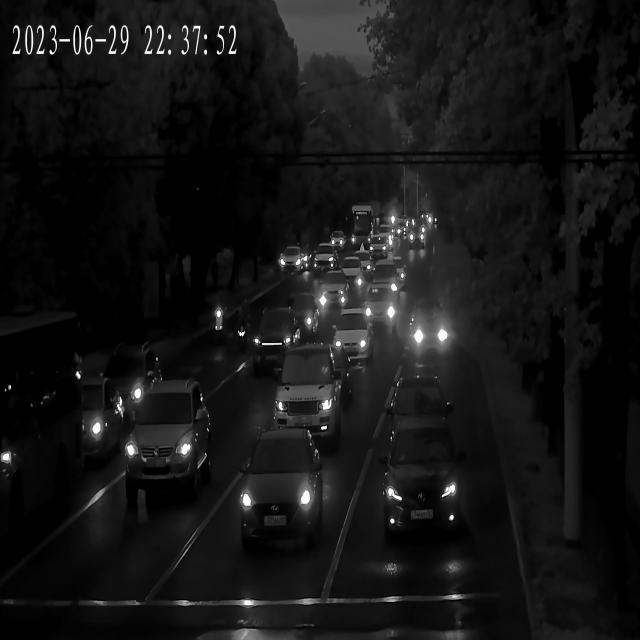Bus: (0, 304, 86, 575), (351, 205, 381, 247)
Car: (128, 374, 212, 509), (382, 417, 459, 541), (242, 429, 322, 547), (272, 344, 342, 448), (392, 349, 452, 446), (64, 380, 124, 469), (110, 341, 164, 426), (252, 298, 304, 374), (332, 306, 376, 374), (407, 303, 452, 368), (362, 288, 397, 330), (292, 298, 320, 336), (372, 266, 398, 306), (281, 243, 305, 277), (341, 256, 364, 291), (314, 243, 336, 276), (408, 227, 428, 254), (354, 252, 374, 278), (371, 233, 388, 258), (331, 232, 345, 251)
